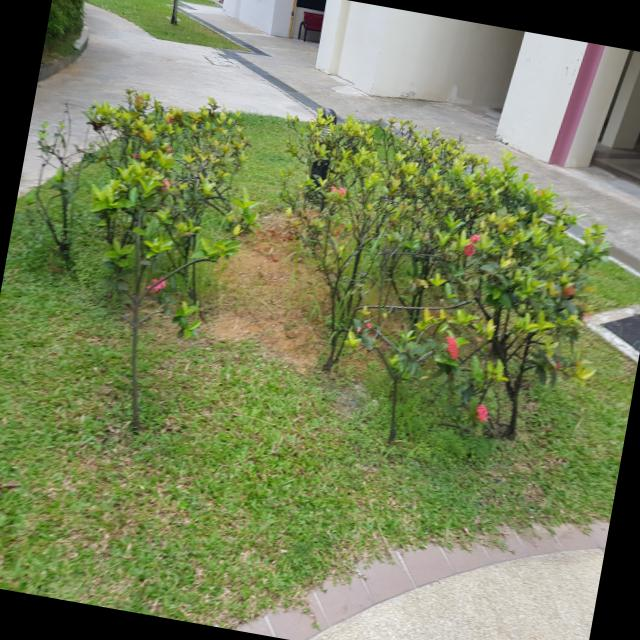Chinese-Ixora: (462, 231, 482, 258), (442, 334, 462, 361), (144, 274, 168, 294), (474, 401, 492, 424), (328, 184, 348, 196), (160, 178, 171, 192), (165, 114, 175, 124), (164, 144, 174, 154), (130, 151, 141, 159)
